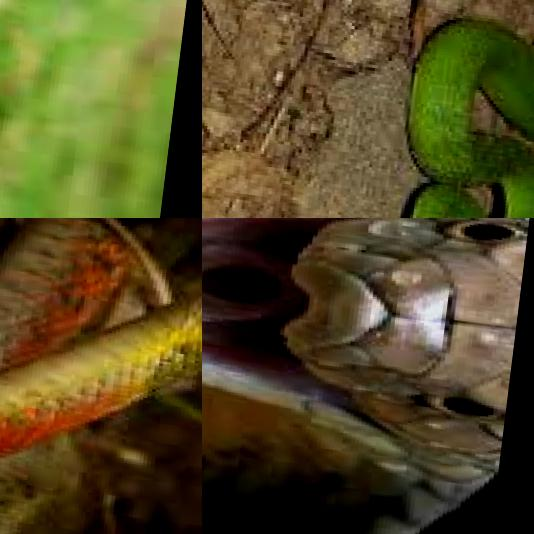snake: (202, 218, 534, 534), (0, 218, 202, 534), (0, 0, 202, 218), (354, 0, 534, 218)
